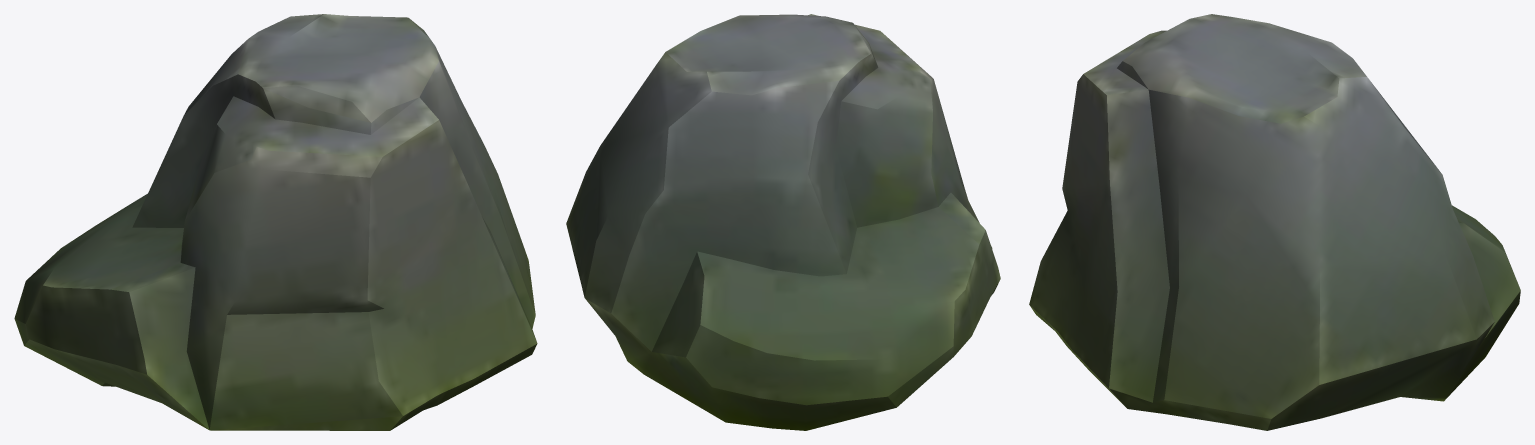
The model's file is rocher.glb.
The picture shows the model from 3 angles, left to right: view 1: azimuth 30°, elevation 25°; view 2: azimuth 150°, elevation 25°; view 3: azimuth 270°, elevation 25°; orthographic projection. The views are drawn at different scales.
Visible parts, largest first — view 1: Rock_Medium_1; view 2: Rock_Medium_1; view 3: Rock_Medium_1.
Part boxes in pixels (left/top/right/bottom): Rock_Medium_1: left=14, top=14, right=537, bottom=430; Rock_Medium_1: left=566, top=14, right=1000, bottom=430; Rock_Medium_1: left=1029, top=14, right=1520, bottom=430.
Size of the model in its own units: 3.23 by 2.26 by 2.99.
Materials: 1 (1 with a texture image).
